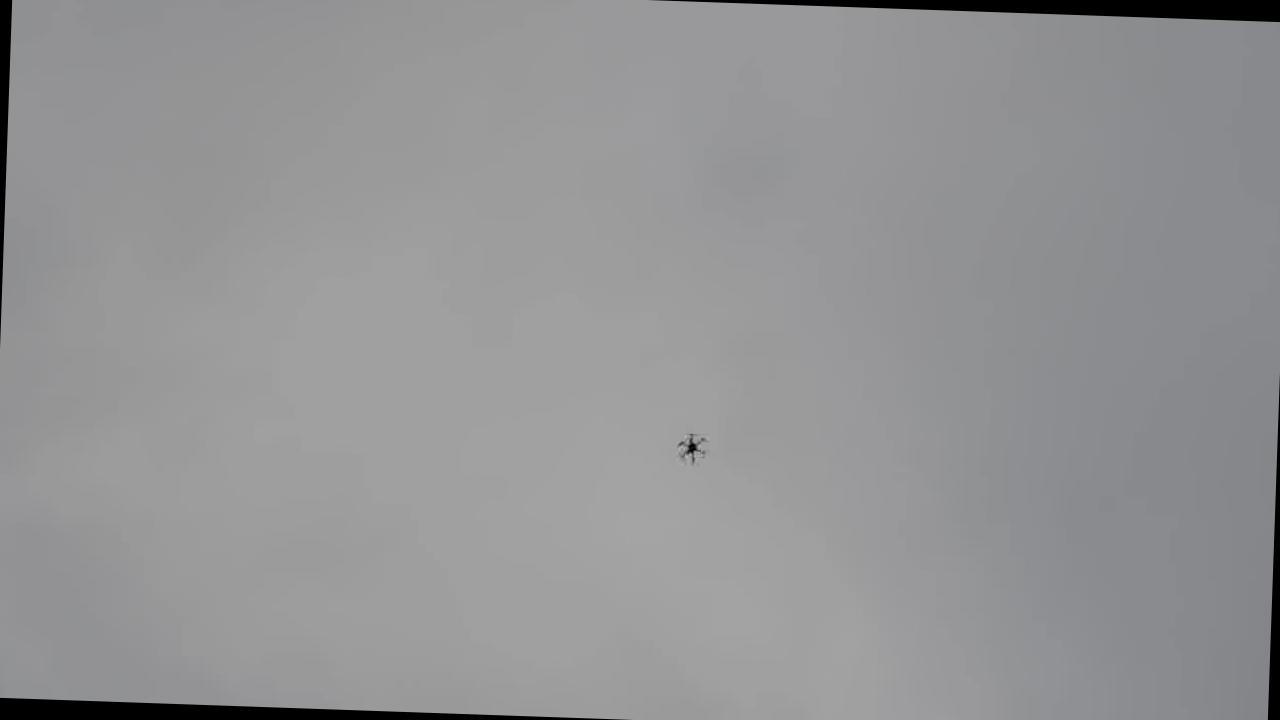drone: (670, 426, 709, 468)
